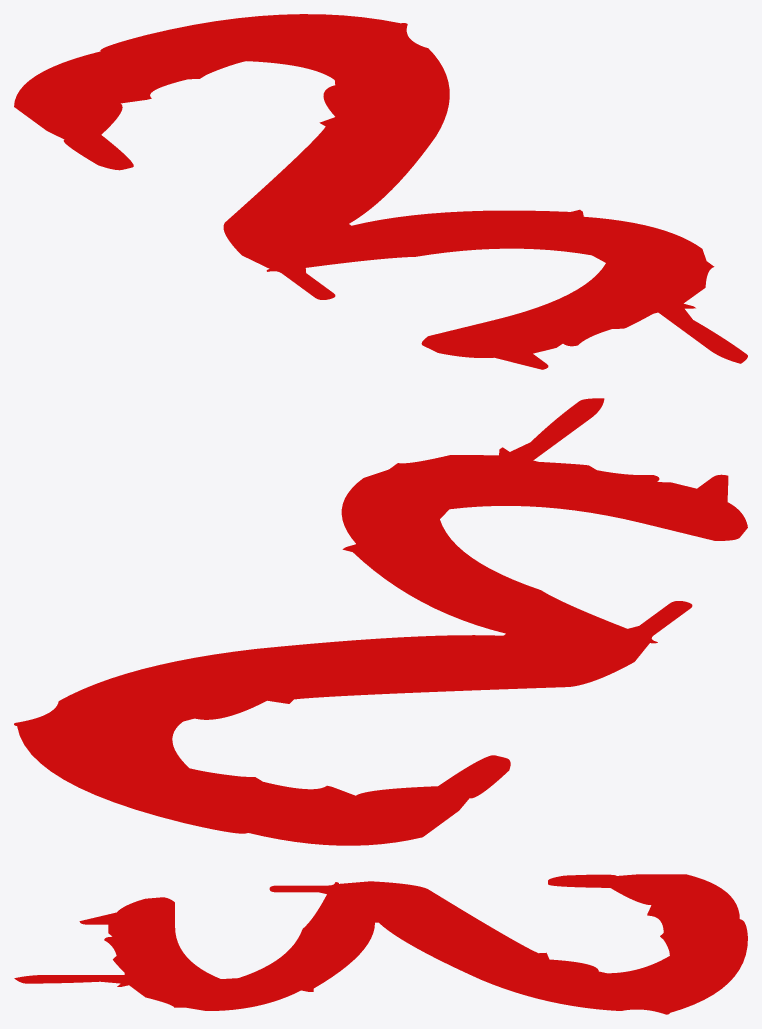
3 views of the same model, one above another, from view 1: azimuth 30°, elevation 25°; view 2: azimuth 150°, elevation 25°; view 3: azimuth 270°, elevation 25° (orthographic). The views are drawn at different scales.
Parts seen in each view (by area): view 1: Text; view 2: Text; view 3: Text.
Boxes of the visible parts, x1=… form: Text: x1=14, y1=14, x2=747, y2=369; Text: x1=14, y1=398, x2=747, y2=845; Text: x1=14, y1=874, x2=747, y2=1014.
Bounding box in the file's own units: 15.91 × 5.73e-06 × 35.2.
